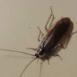cockroach: (35, 16, 73, 62)
